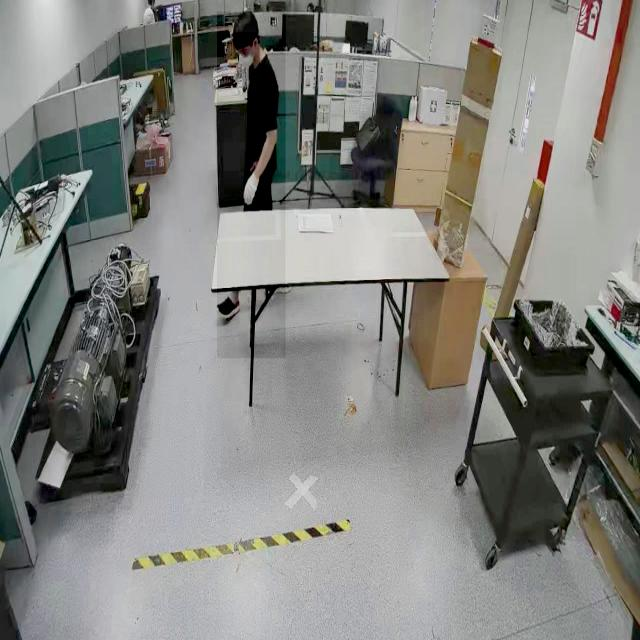face_mask: (234, 34, 260, 80)
hand_glove: (240, 169, 260, 214)
head_nohelmet: (231, 9, 259, 33)
person: (217, 12, 286, 359)
shoes: (214, 289, 242, 324)
